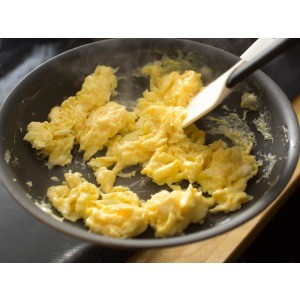egg_brain food: (57, 75, 164, 203)
